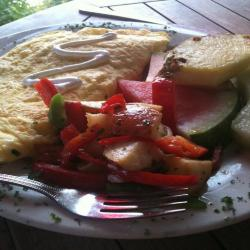omelette: (1, 26, 163, 160)
